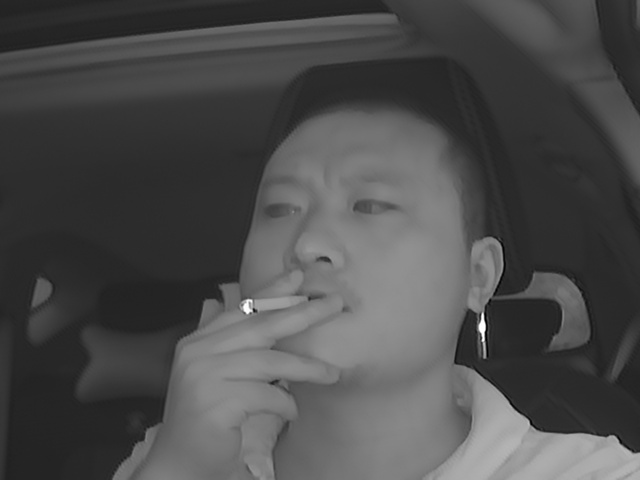hand: (188, 269, 338, 428)
